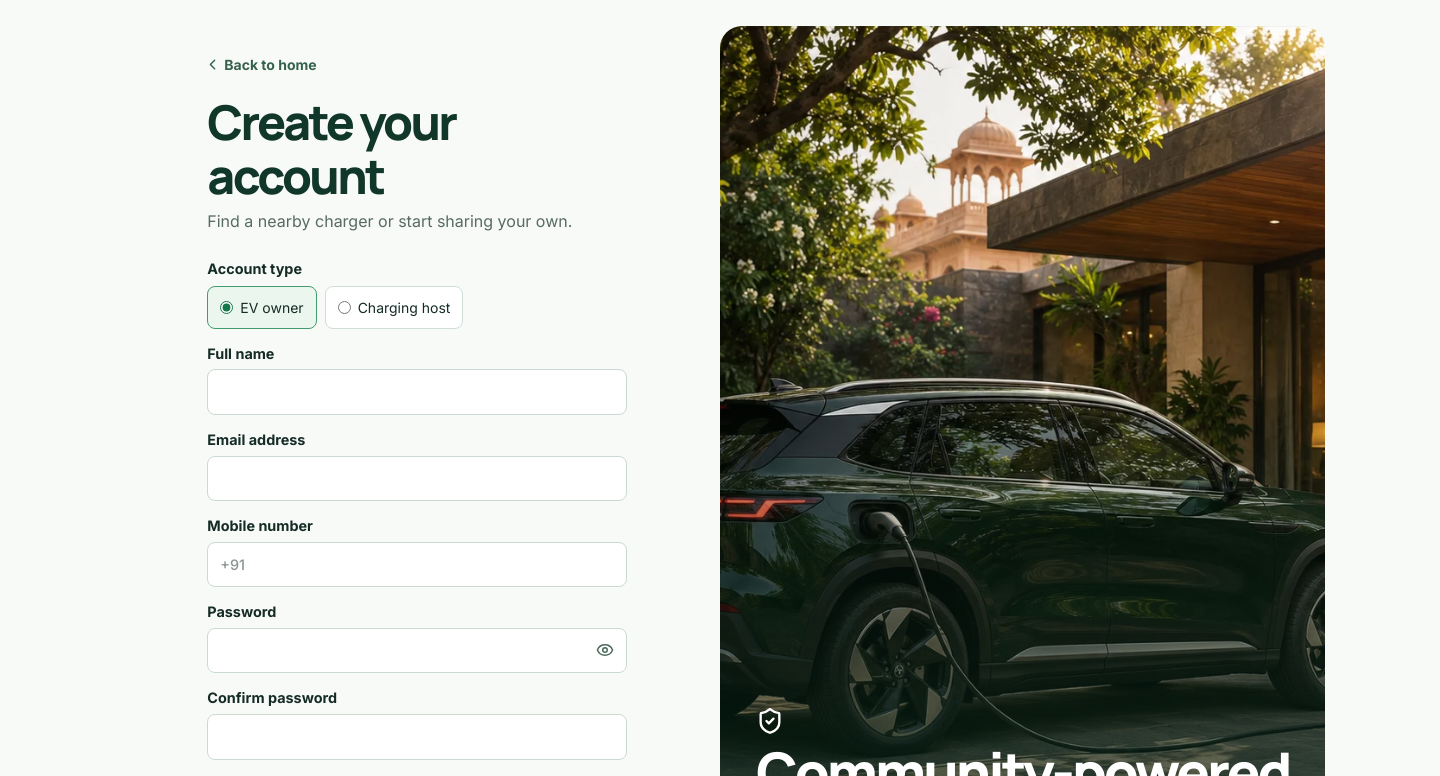
Test: blocks signup when the password confirmation differs
This screenshot has width=1440, height=776.
Type "Jaipur Driver" into the field labelled "Full name" at {"x": 417, "y": 392}, box [207, 369, 627, 415]
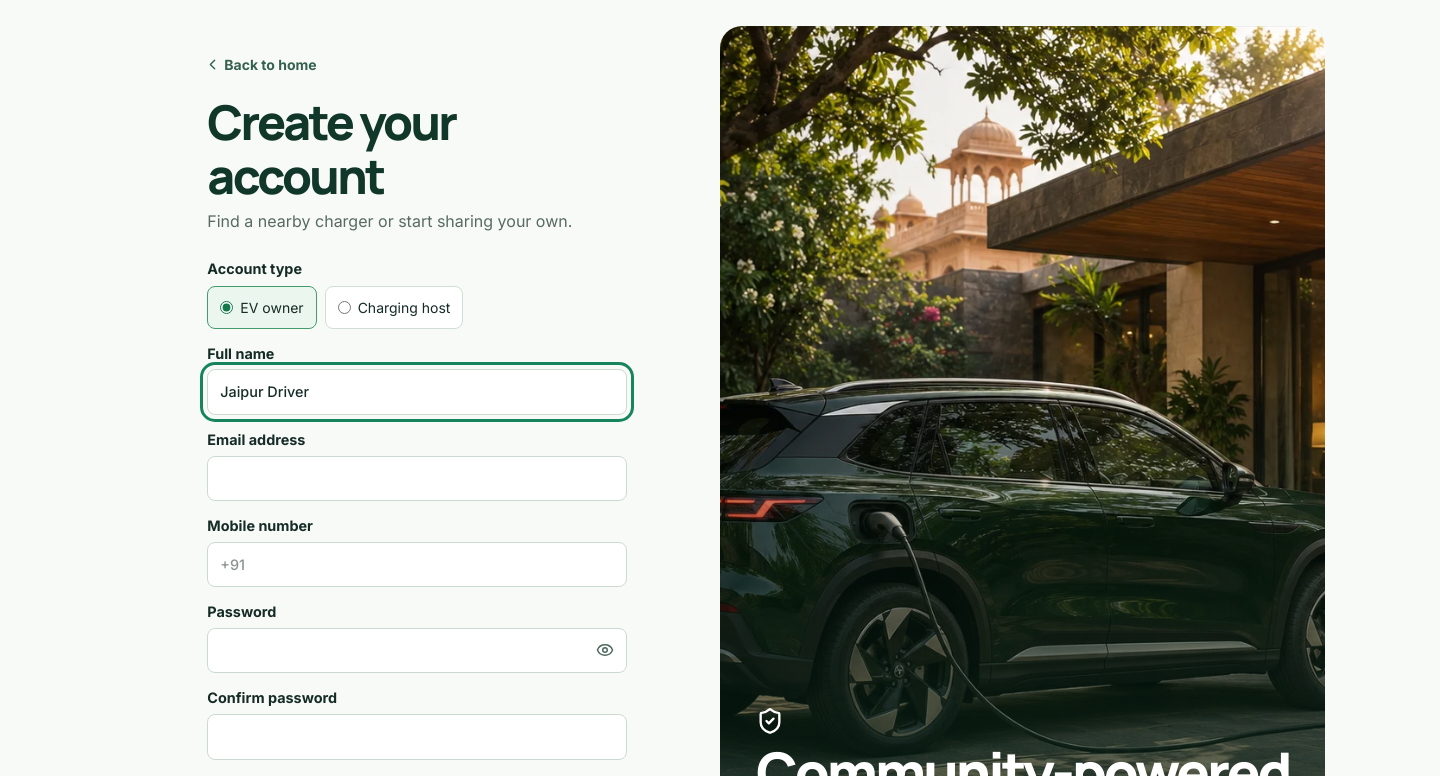
Type "jaipur-driver@pluglink.test" into the field labelled "Email address" at {"x": 417, "y": 478}, box [207, 456, 627, 501]
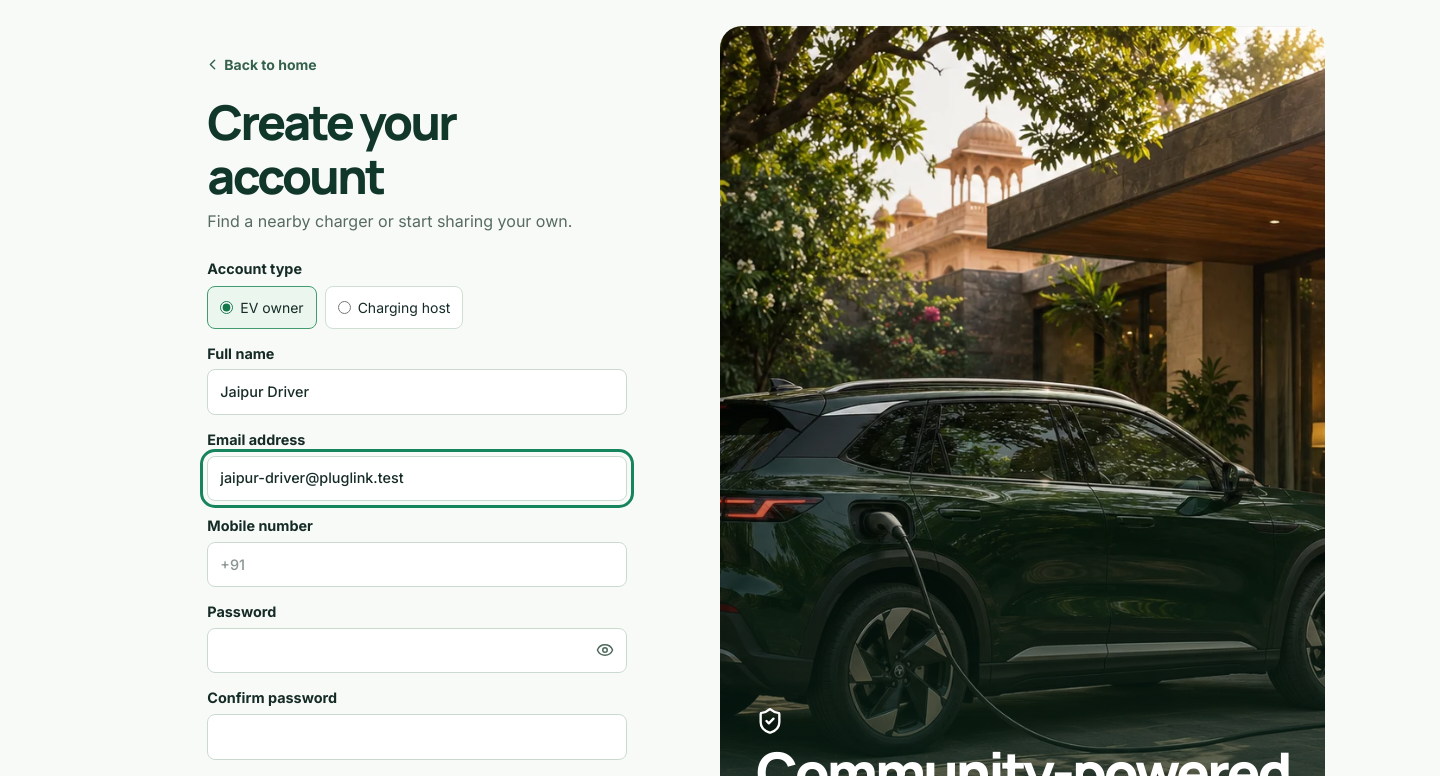
Type "9876500000" into the field labelled "Mobile number" at {"x": 417, "y": 564}, box [207, 542, 627, 587]
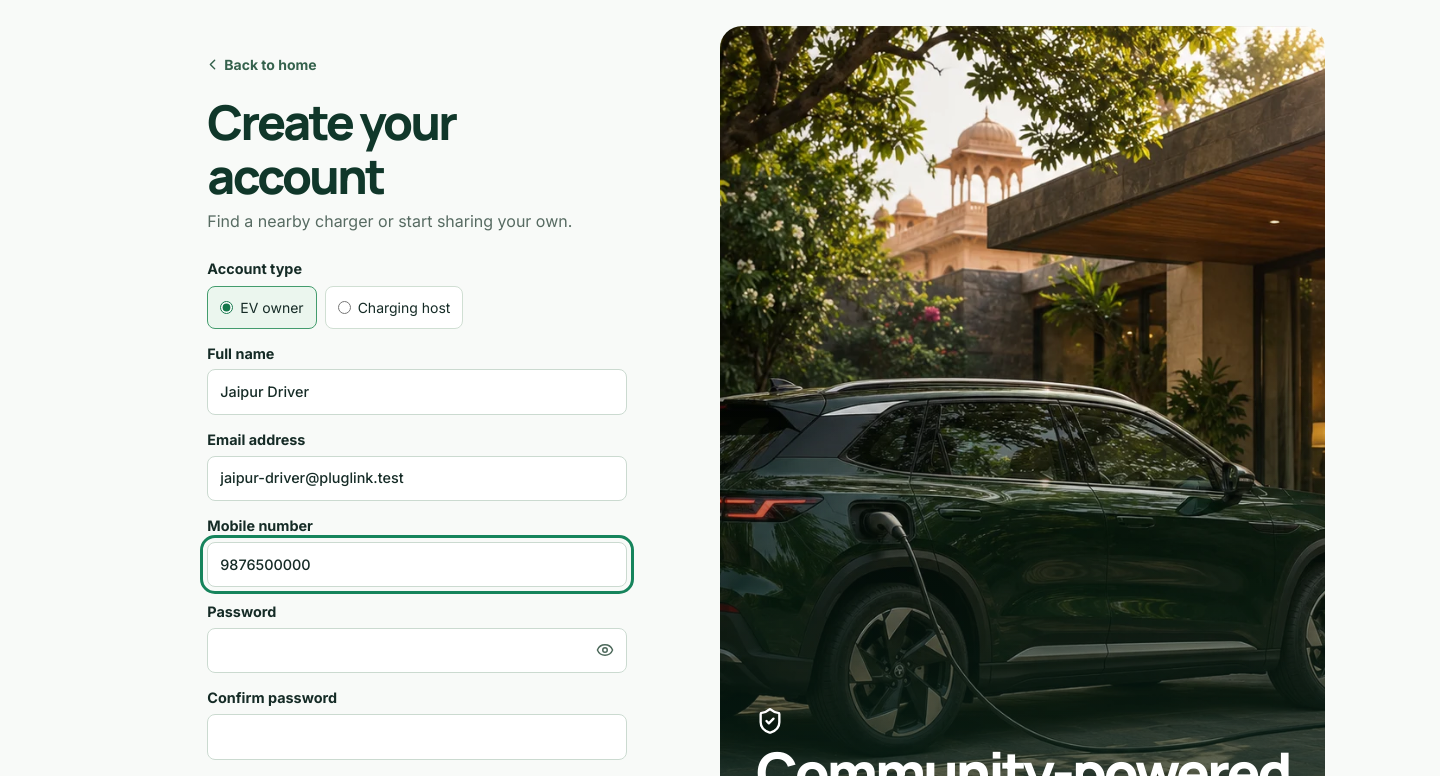
Type "ExamplePassword!2026" into the password field labelled "Password" at {"x": 417, "y": 651}, box [207, 628, 627, 674]
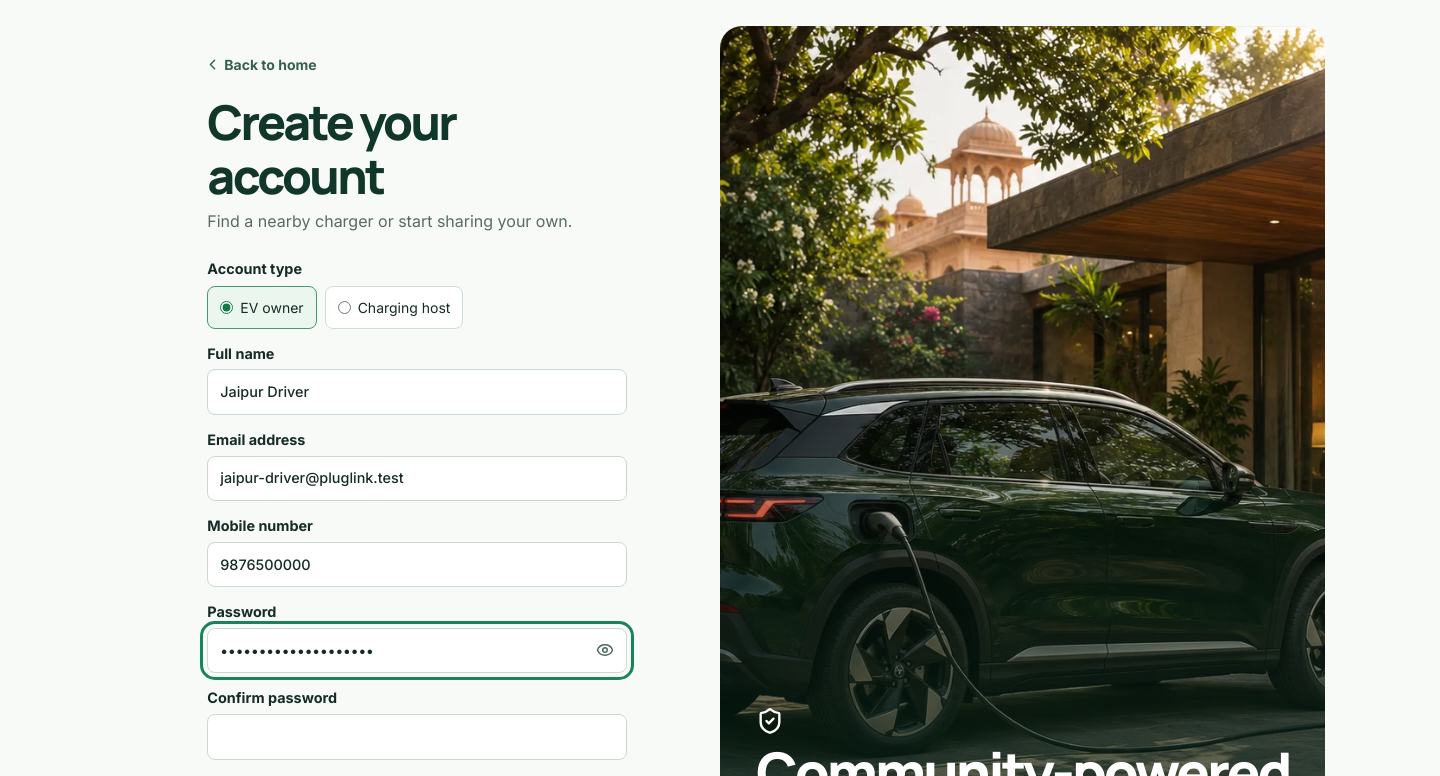
Type "DifferentPassword!2026" into the password field labelled "Confirm password" at {"x": 417, "y": 737}, box [207, 714, 627, 760]
(page scrolled)
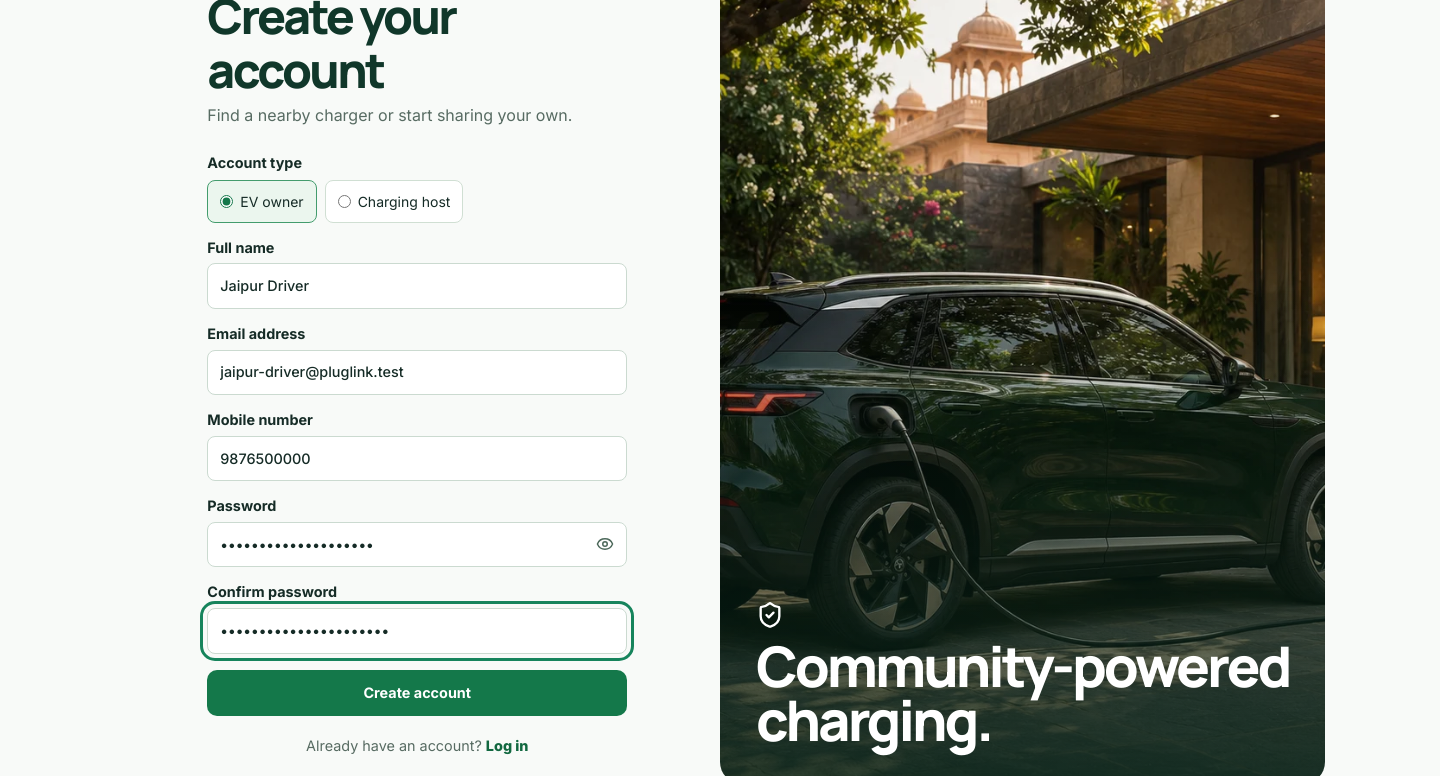
Click the button "Create account" at {"x": 417, "y": 693}, box [207, 670, 627, 716]
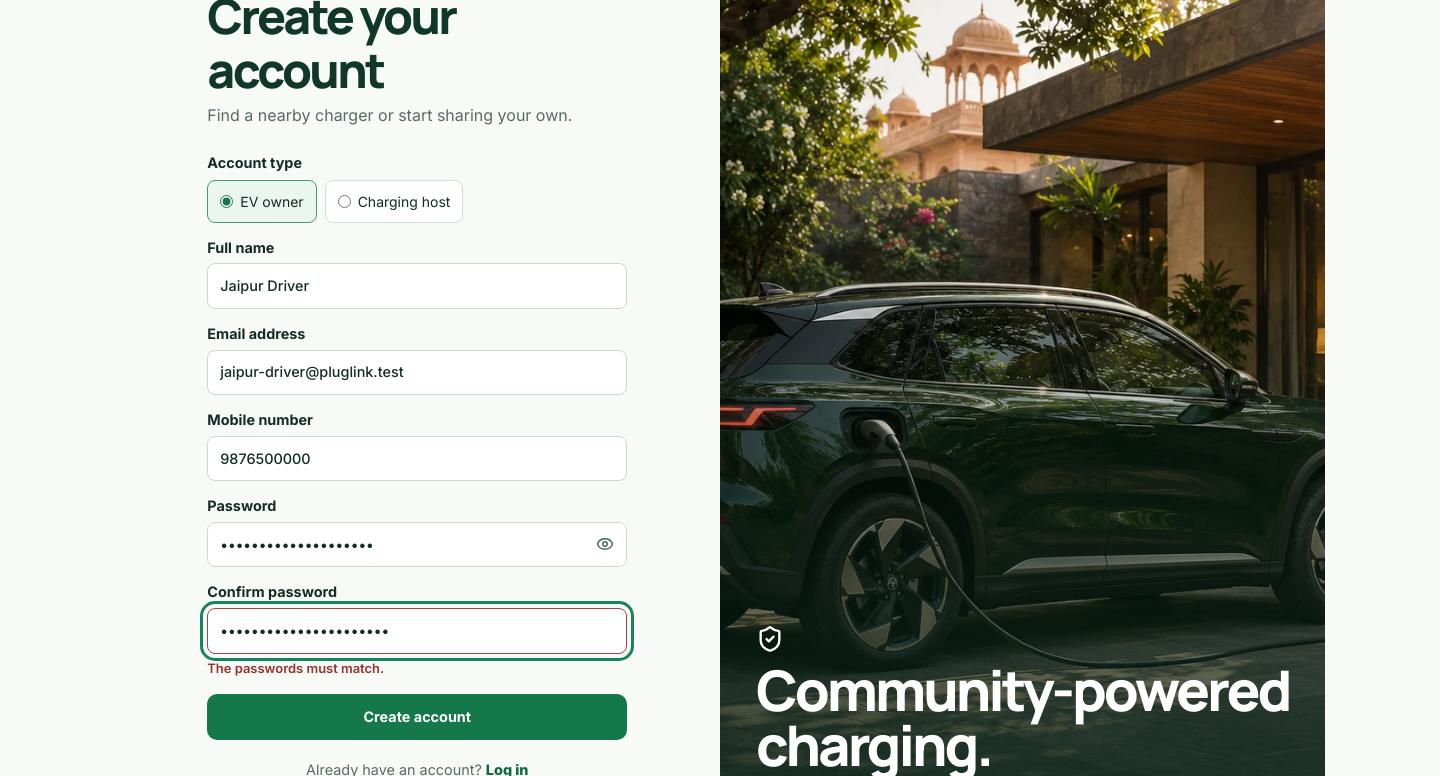
Check: the text "The passwords must match." is shown, box [207, 660, 384, 676]
